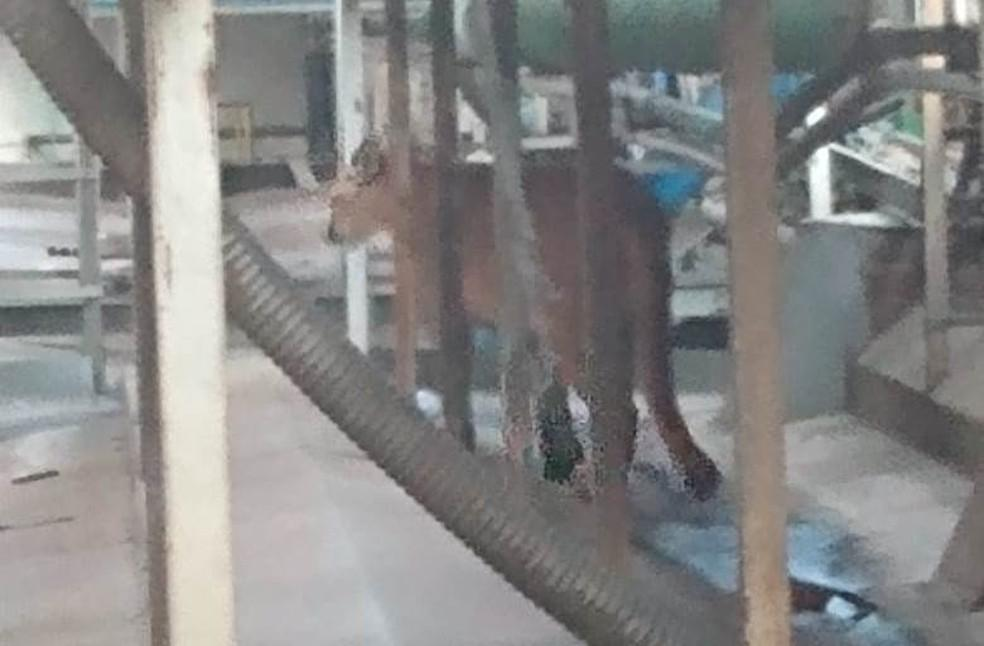OncaParda: (323, 132, 738, 519)
